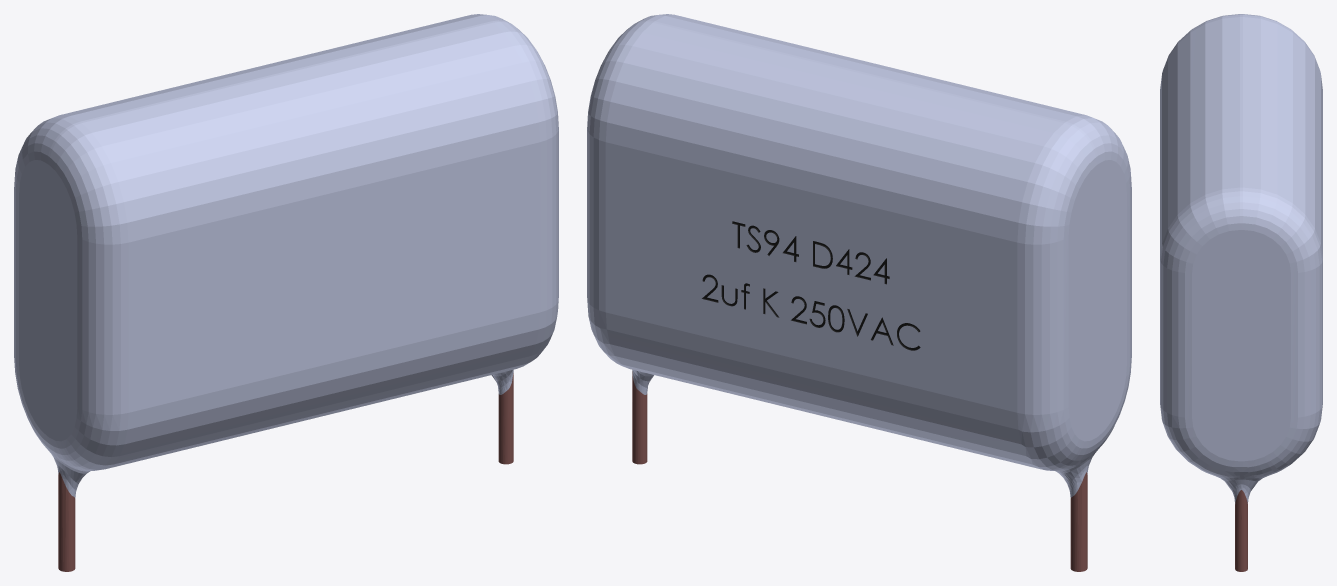
File: Capacitor 2uf 250 vac.obj
3 views of the same model, side by side, from view 1: azimuth 30°, elevation 25°; view 2: azimuth 150°, elevation 25°; view 3: azimuth 270°, elevation 25° (orthographic). The views are drawn at different scales.
Visible parts, largest first — view 1: Capacitor_2uf_250_vac; view 2: Capacitor_2uf_250_vac; view 3: Capacitor_2uf_250_vac.
Part boxes in pixels (left/top/right/bottom): Capacitor_2uf_250_vac: left=14, top=14, right=558, bottom=571; Capacitor_2uf_250_vac: left=587, top=14, right=1131, bottom=571; Capacitor_2uf_250_vac: left=1160, top=14, right=1322, bottom=571.
Bounding box in the file's own units: 0.0251 × 0.0222 × 0.00873.
